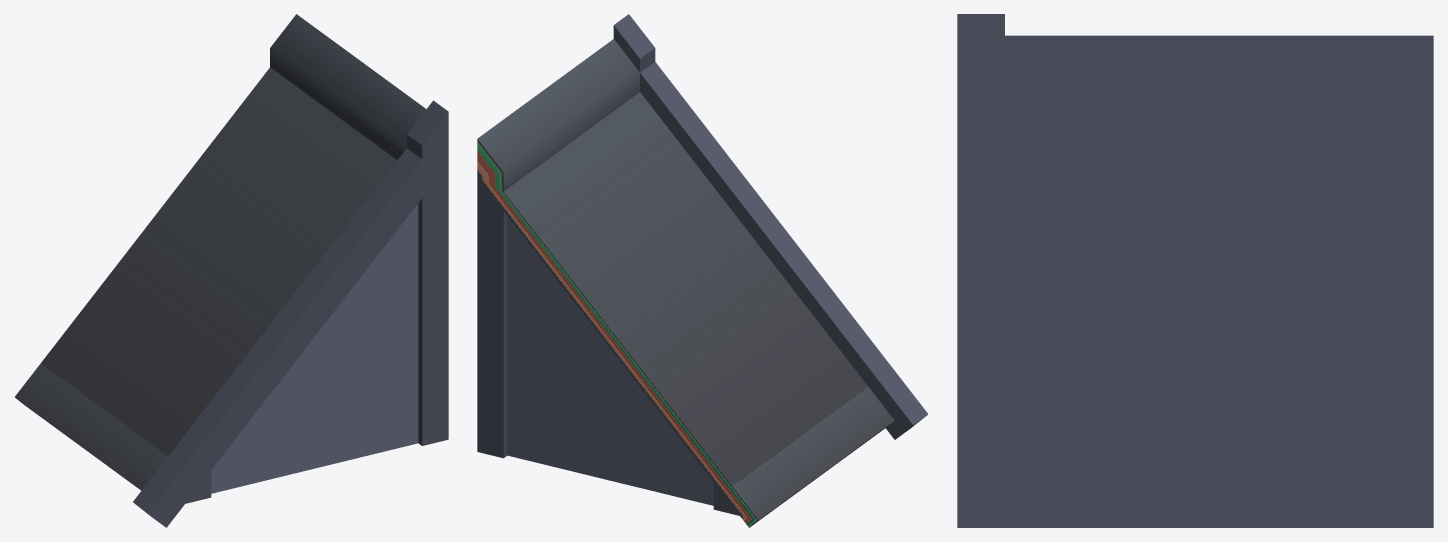
File: roof-high-right.glb
3 renders of one model, left to right at view 1: azimuth 30°, elevation 25°; view 2: azimuth 150°, elevation 25°; view 3: azimuth 270°, elevation 25°, orthographic. The views are drawn at different scales.
Visible parts, largest first — view 1: roof-high-right; view 2: roof-high-right; view 3: roof-high-right.
Boxes of the visible parts, <box> form: roof-high-right: <box>15,14,448,527</box>; roof-high-right: <box>477,14,928,527</box>; roof-high-right: <box>957,14,1433,527</box>.
Bounding box in the file's own units: 1.14 × 1.26 × 1.
Materials: 1 (1 with a texture image).
